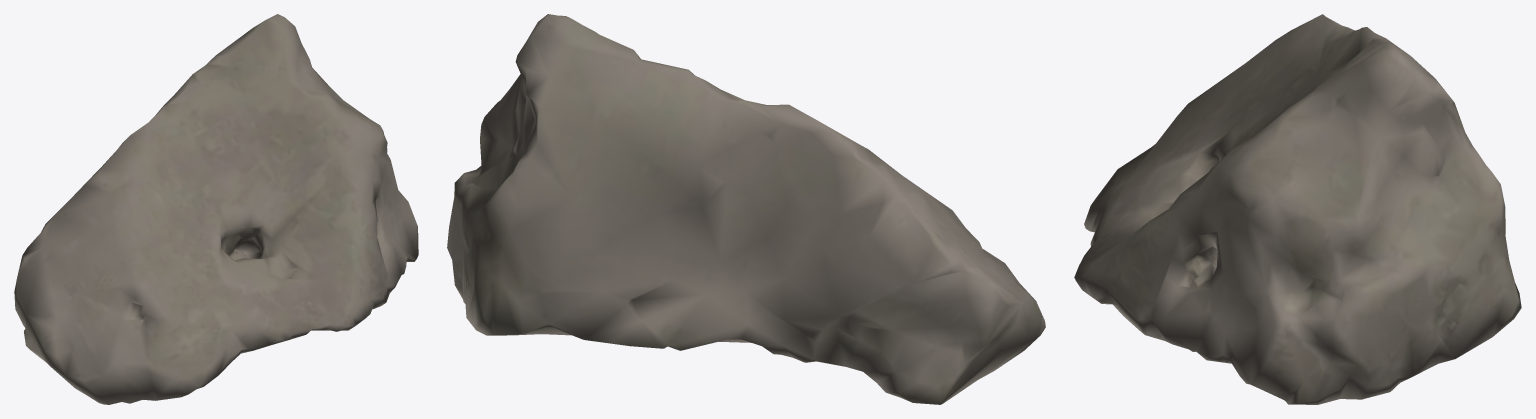
The model's file is moon_rock_07.glb.
3 views of the same model, side by side, from view 1: azimuth 30°, elevation 25°; view 2: azimuth 150°, elevation 25°; view 3: azimuth 270°, elevation 25° (orthographic). The views are drawn at different scales.
Visible parts, largest first — view 1: moon_rock_07_LOD0; view 2: moon_rock_07_LOD0; view 3: moon_rock_07_LOD0.
Boxes of the visible parts, x1=… form: moon_rock_07_LOD0: x1=14, y1=14, x2=418, y2=404; moon_rock_07_LOD0: x1=447, y1=14, x2=1045, y2=404; moon_rock_07_LOD0: x1=1074, y1=14, x2=1521, y2=404.
Bounding box in the file's own units: 0.0966 × 0.0603 × 0.0736.
Materials: 1 (1 with a texture image).
